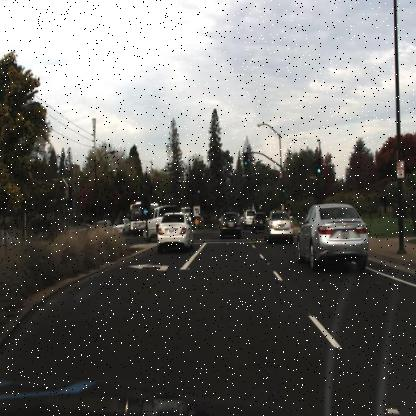car: (294, 200, 372, 274), (156, 215, 192, 251), (263, 209, 293, 243), (264, 210, 294, 242), (147, 206, 170, 238), (219, 211, 243, 239), (250, 210, 268, 236), (244, 208, 255, 229)
trafficLight: (242, 150, 250, 174), (197, 182, 202, 198)
trafficLight-Green: (315, 164, 323, 185), (280, 183, 284, 197)
trafficLight-GreenLeft: (139, 190, 150, 219)
truck: (129, 198, 161, 236)
